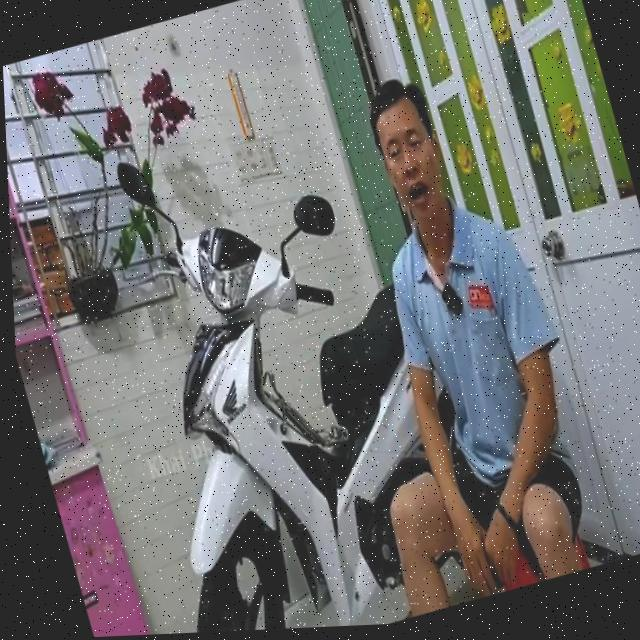motorcycle: (61, 85, 522, 638)
